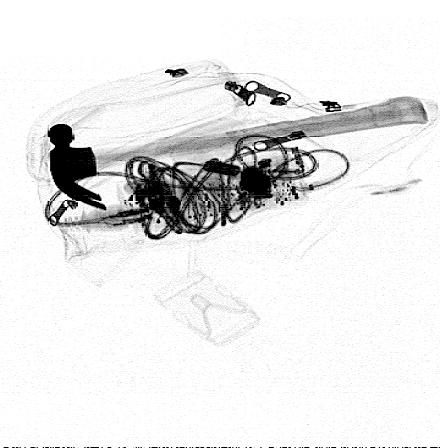Hammer: (46, 96, 428, 211)
